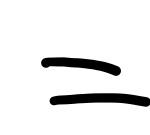eqv: (37, 52, 150, 108)
